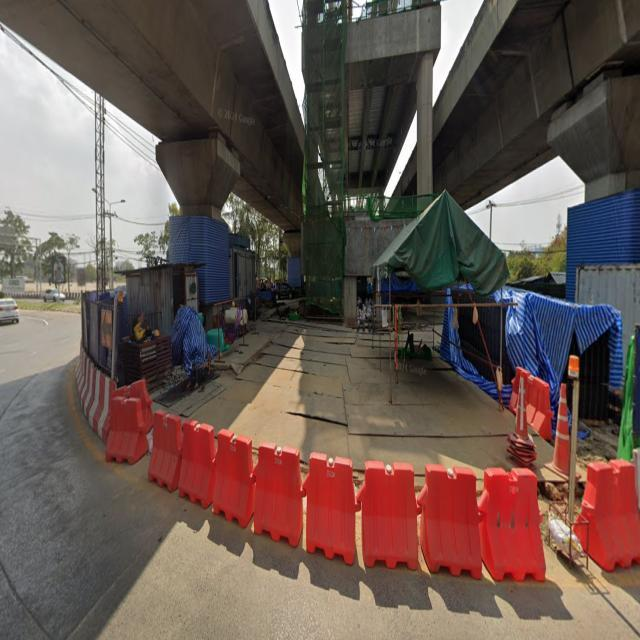fallen_object: (415, 449, 548, 590), (295, 445, 422, 579), (186, 427, 298, 558), (85, 385, 190, 486), (563, 463, 640, 567), (536, 355, 585, 478), (506, 363, 541, 471), (505, 360, 558, 430)
